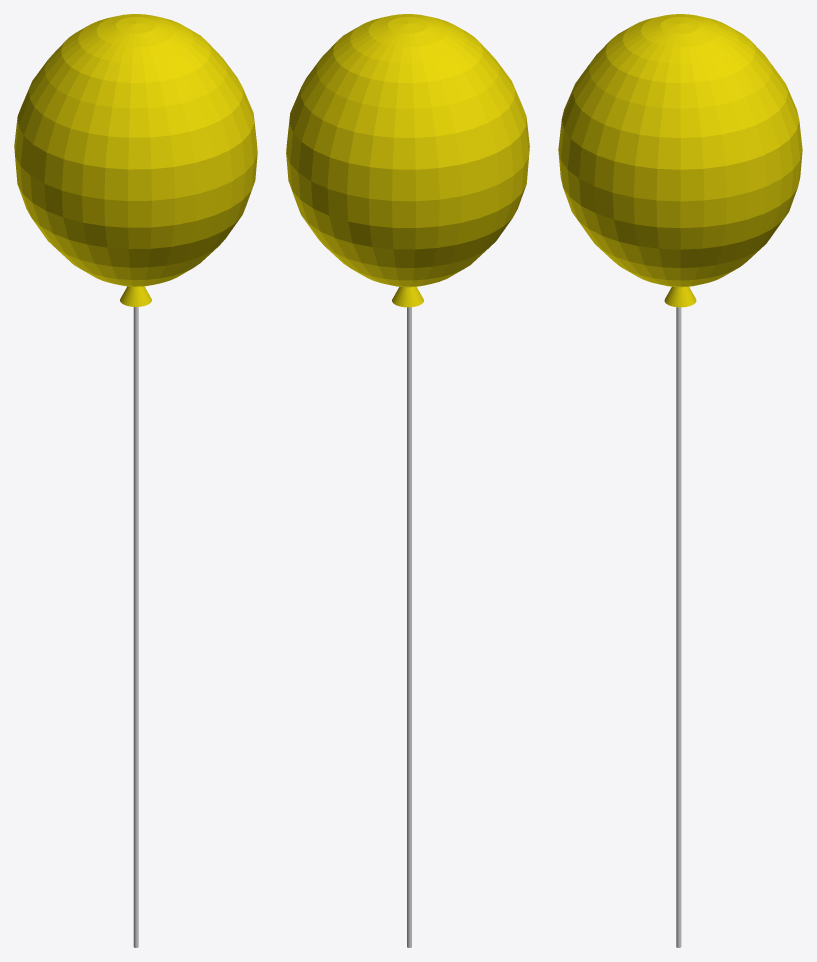
Rendered from ballonGeel.dae.
The picture shows the model from 3 angles, left to right: view 1: azimuth 30°, elevation 25°; view 2: azimuth 150°, elevation 25°; view 3: azimuth 270°, elevation 25°; orthographic projection.
Parts seen in each view (by area): view 1: Sphere, Cylinder, Cone; view 2: Sphere, Cylinder, Cone; view 3: Sphere, Cylinder, Cone.
Part boxes in pixels (x1,y1,x2,y2): Sphere: (14,14,257,286); Cylinder: (133,307,138,947); Cone: (120,286,151,306); Sphere: (286,14,529,287); Cylinder: (407,307,411,947); Cone: (392,286,423,307); Sphere: (558,14,802,287); Cylinder: (676,307,681,947); Cone: (664,286,696,307).
Bounding box in the file's own units: 2 × 2 × 8.35.
